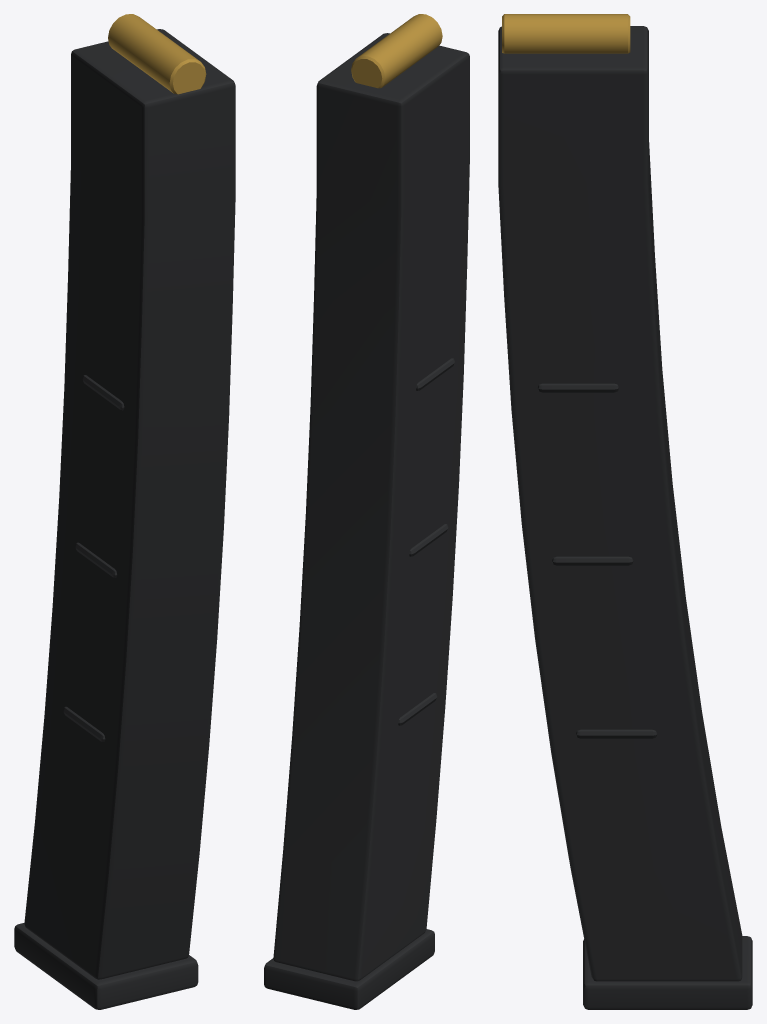
The model's file is mod_hornet_extended_mag.glb.
The picture shows the model from 3 angles, left to right: view 1: azimuth 30°, elevation 25°; view 2: azimuth 150°, elevation 25°; view 3: azimuth 270°, elevation 25°; orthographic projection. The views are drawn at different scales.
Visible parts, largest first — view 1: Magazine, MagazineRound; view 2: Magazine, MagazineRound; view 3: Magazine, MagazineRound.
Boxes of the visible parts, x1=… form: Magazine: x1=14, y1=29, x2=235, y2=1009; MagazineRound: x1=108, y1=14, x2=206, y2=94; Magazine: x1=264, y1=33, x2=469, y2=1009; MagazineRound: x1=351, y1=14, x2=442, y2=88; Magazine: x1=498, y1=26, x2=752, y2=1009; MagazineRound: x1=502, y1=14, x2=630, y2=53.
Bounding box in the file's own units: 0.0254 × 0.2272 × 0.054.
